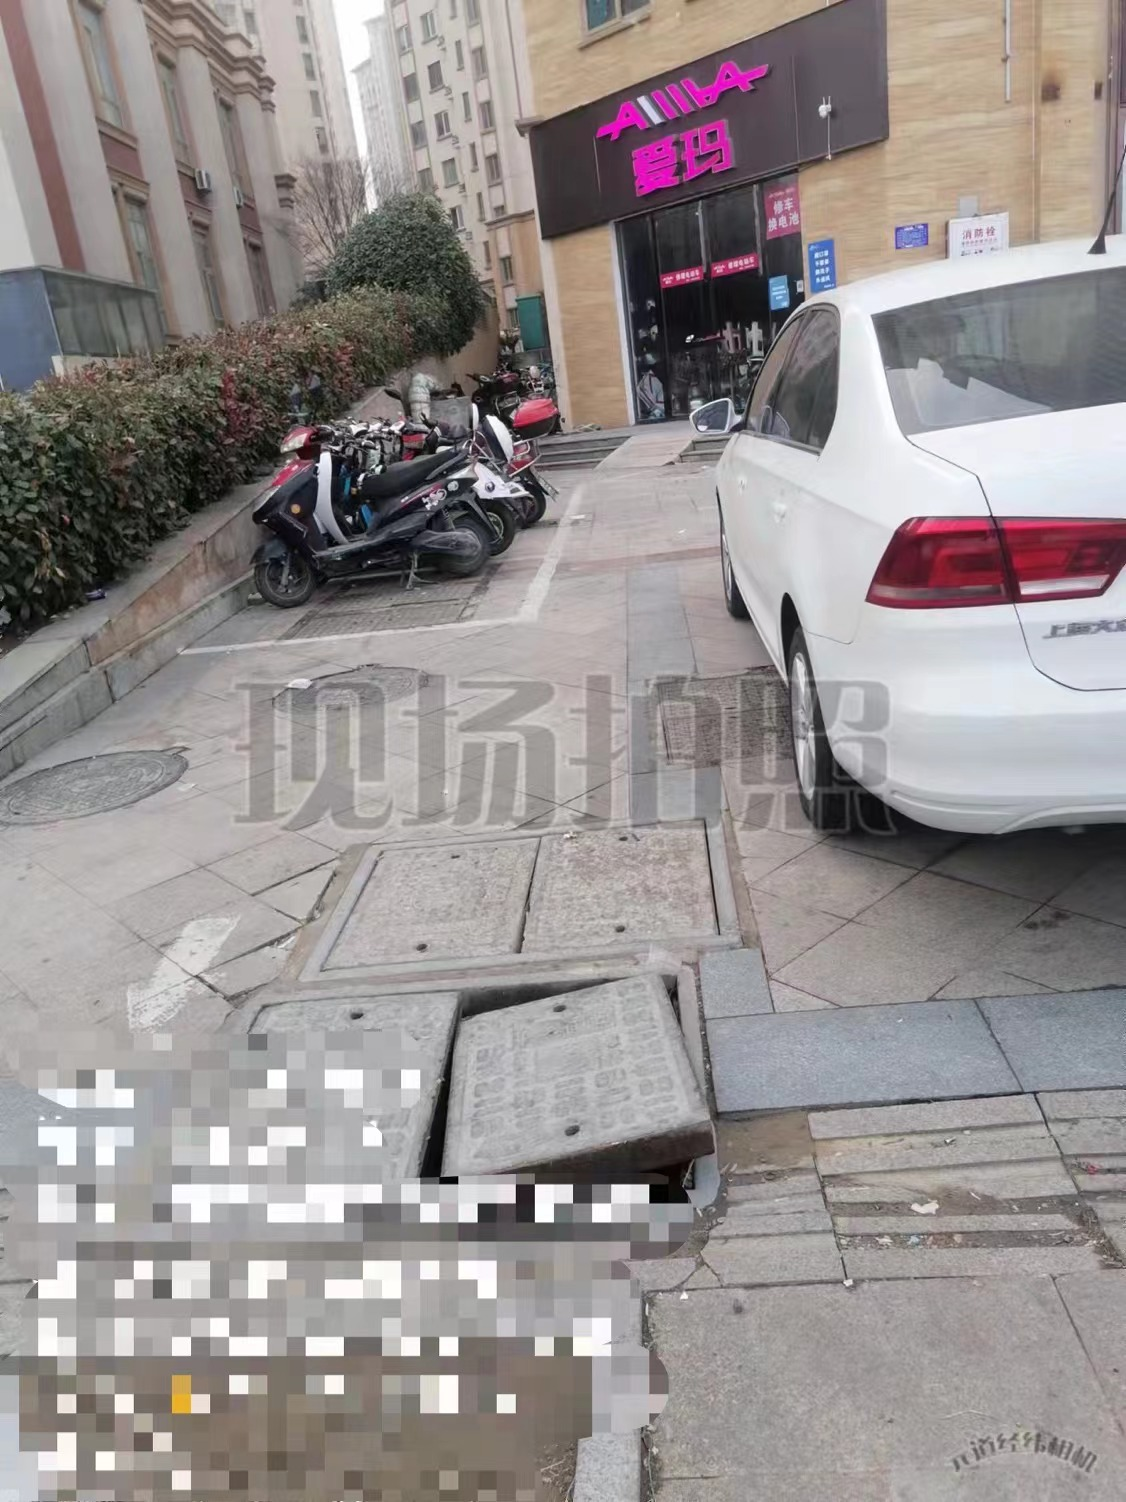well: (185, 954, 723, 1239), (298, 820, 742, 966), (2, 742, 192, 821)
